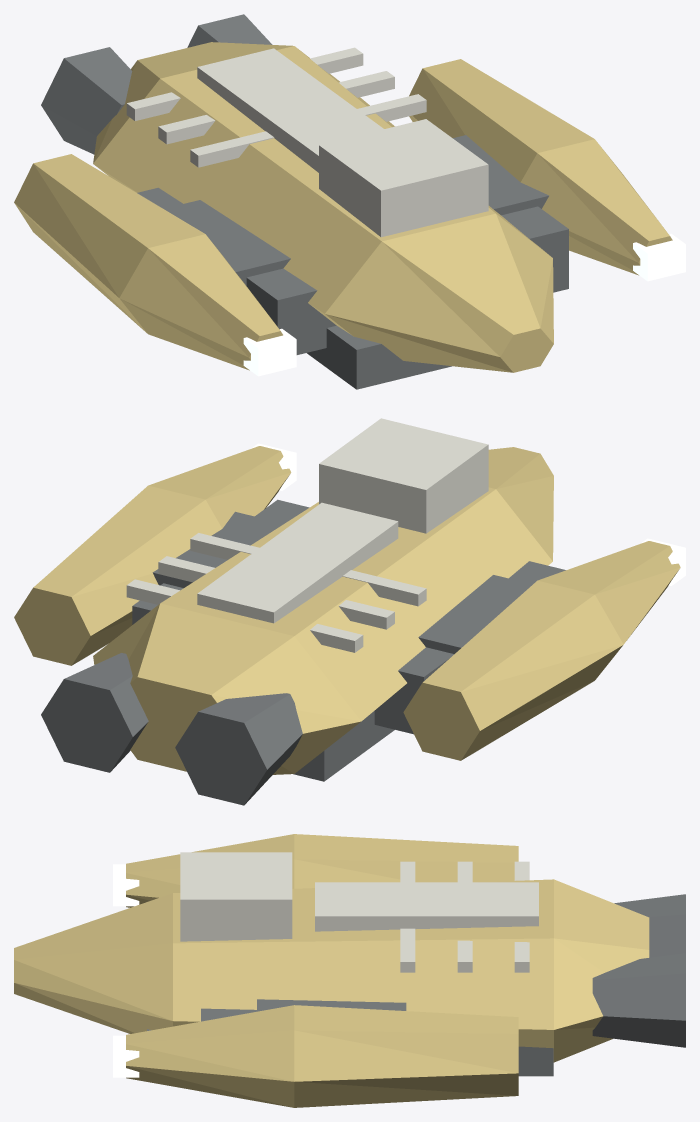
The picture shows the model from 3 angles, top to bottom: view 1: azimuth 30°, elevation 25°; view 2: azimuth 150°, elevation 25°; view 3: azimuth 270°, elevation 25°; orthographic projection. The views are drawn at different scales.
Size of the model in its own units: 5.84 by 1.94 by 7.48.
